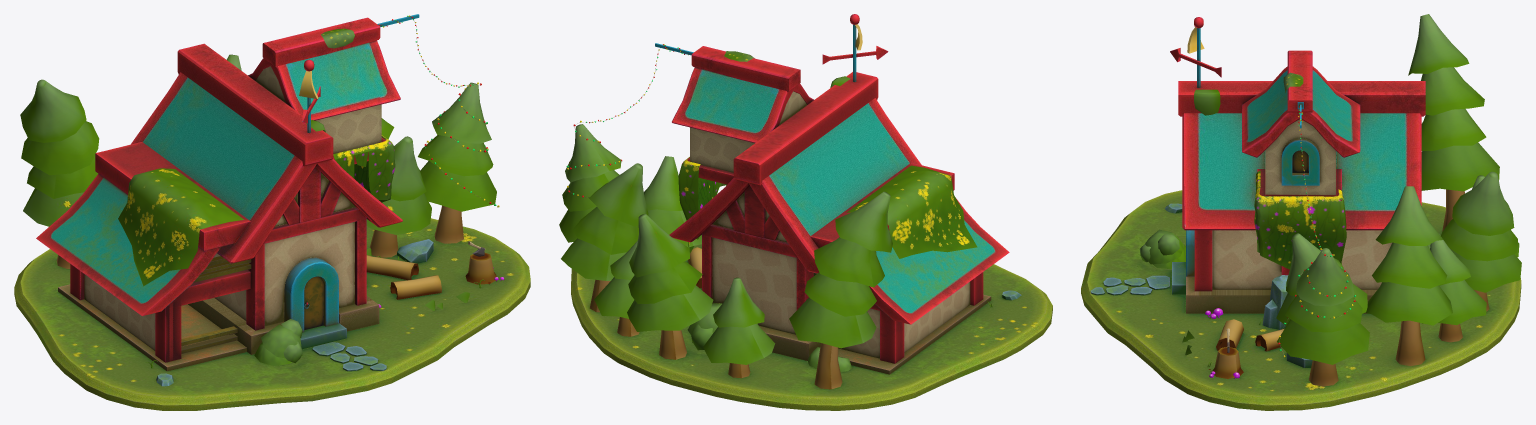
Rendered from house_1.fbx.
3 views of the same model, side by side, from view 1: azimuth 30°, elevation 25°; view 2: azimuth 150°, elevation 25°; view 3: azimuth 270°, elevation 25° (orthographic). The views are drawn at different scales.
Parts seen in each view (by area): view 1: house_1; view 2: house_1; view 3: house_1.
Part boxes in pixels (<box>): house_1: <box>14,14,530,410</box>; house_1: <box>559,14,1052,410</box>; house_1: <box>1081,14,1521,410</box>.
Size of the model in its own units: 96.21 by 56.88 by 81.96.
5 materials, 5 textured.
